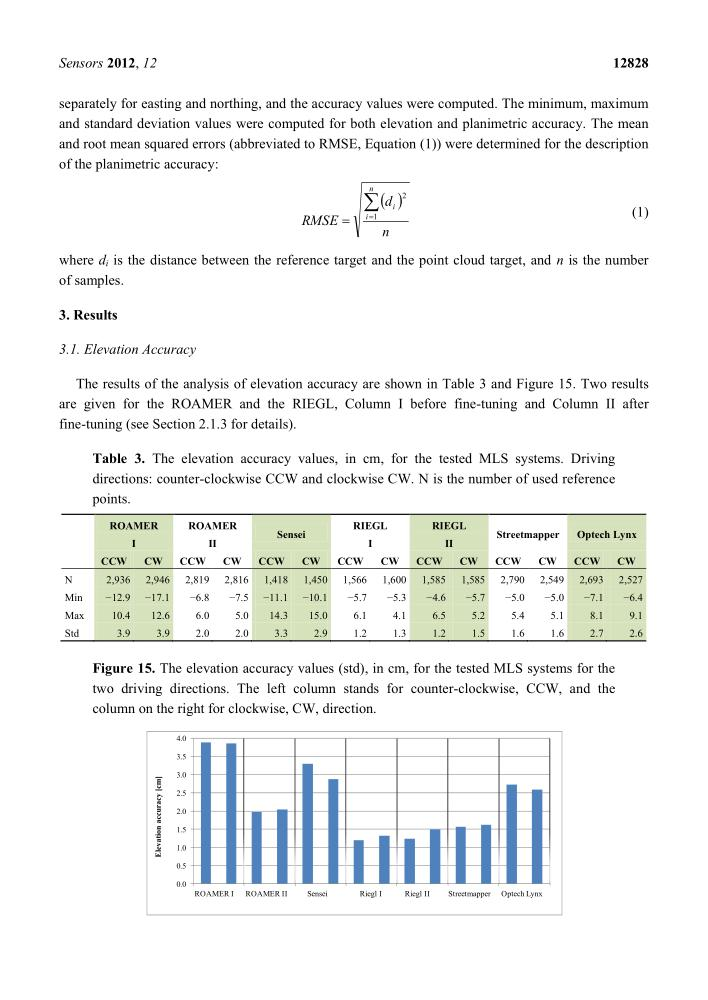table: (64, 519, 642, 639)
